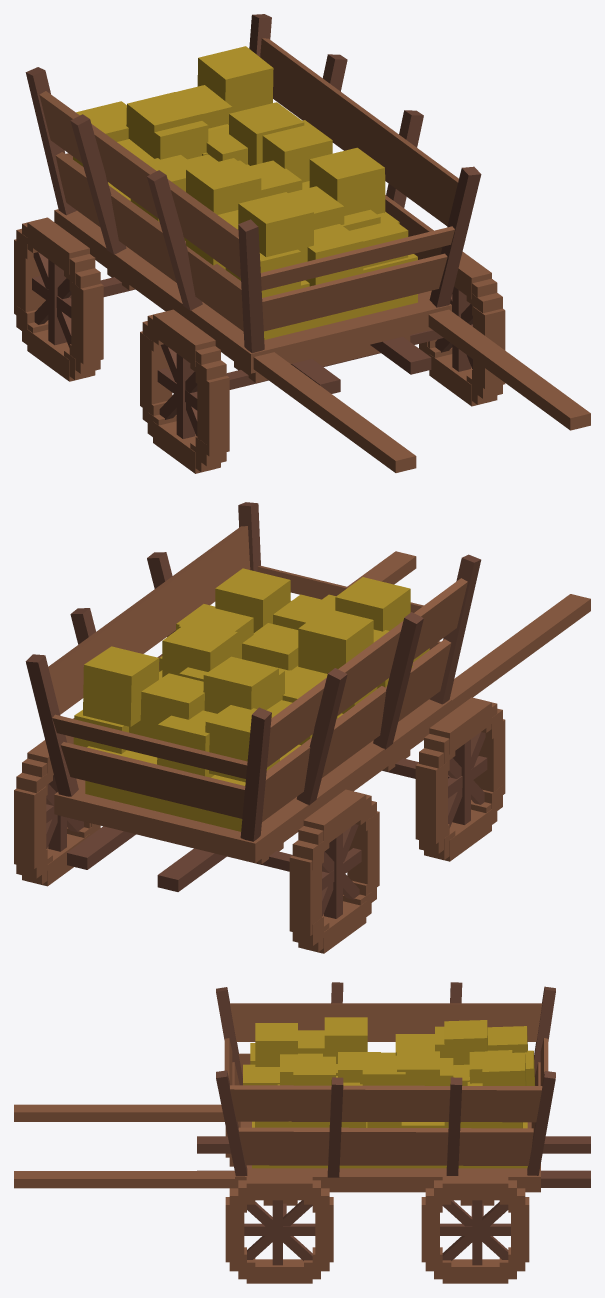
Rendered from WoodenWagon.fbx.
3 views of the same model, one above another, from view 1: azimuth 30°, elevation 25°; view 2: azimuth 150°, elevation 25°; view 3: azimuth 270°, elevation 25° (orthographic). The views are drawn at different scales.
Visible parts, largest first — view 1: Cube; view 2: Cube; view 3: Cube.
Boxes of the visible parts, <box> form: Cube: <box>14,14,590,473</box>; Cube: <box>14,502,590,953</box>; Cube: <box>14,982,590,1283</box>.
Size of the model in its own units: 443 by 361 by 958.
